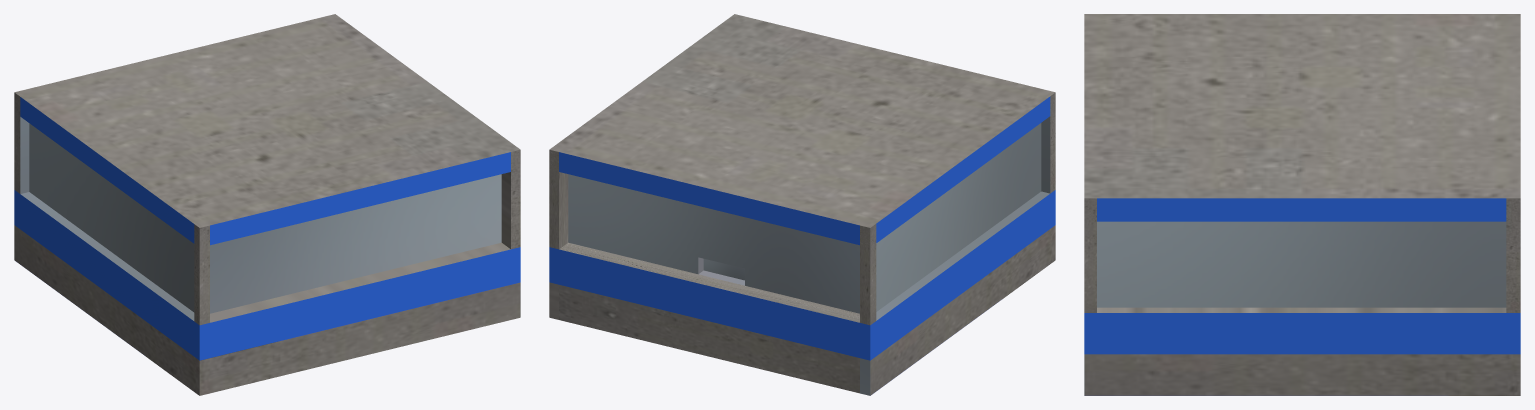
The model's file is subway_guichet.fbx.
3 renders of one model, left to right at view 1: azimuth 30°, elevation 25°; view 2: azimuth 150°, elevation 25°; view 3: azimuth 270°, elevation 25°, orthographic. The views are drawn at different scales.
Visible parts, largest first — view 1: Cube; view 2: Cube; view 3: Cube.
Part boxes in pixels (x1,y1,x2,y2): Cube: [14, 14, 520, 395]; Cube: [549, 14, 1055, 395]; Cube: [1084, 14, 1520, 395].
Size of the model in its own units: 618 by 309 by 618.
